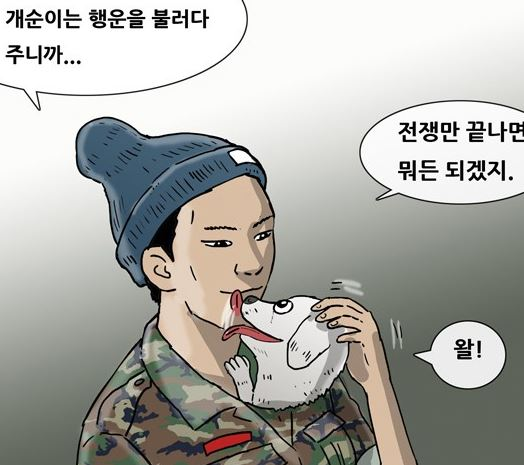hat: (70, 109, 268, 216)
